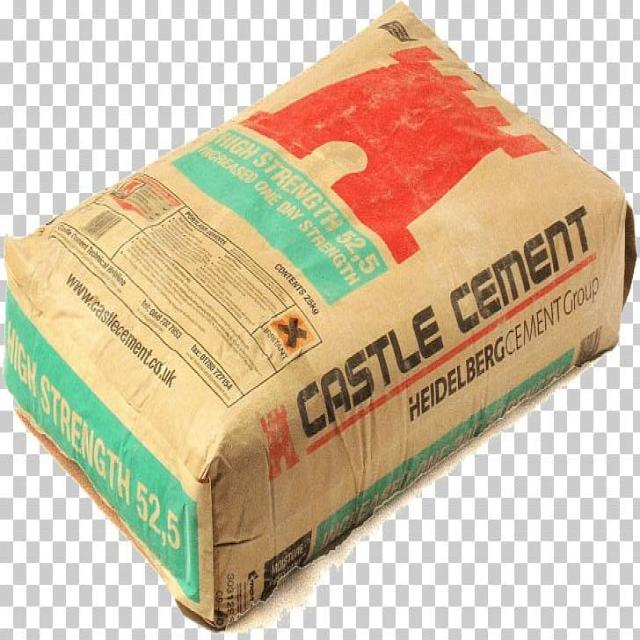KantongSemen: (2, 1, 636, 632)
